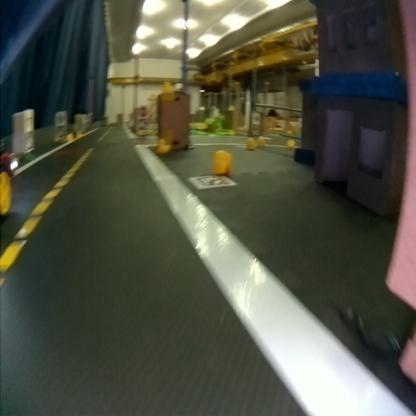Duckie: (212, 149, 233, 173), (158, 138, 171, 152), (164, 82, 174, 92), (259, 135, 267, 144), (290, 138, 296, 146)
Duckiebot: (2, 150, 18, 214)
QR code: (187, 176, 236, 188)
